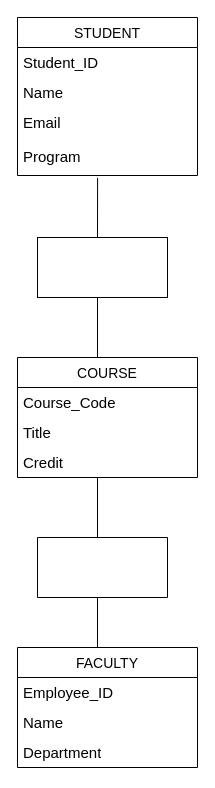
Some shapes in this 215 by 788 pixel diagram are drawn without their labels. Here are the shapes that lost their labels. From the top down, the centre of each, then its label:
At (102,267): "Registers".
At (102,567): "TEACHES".
